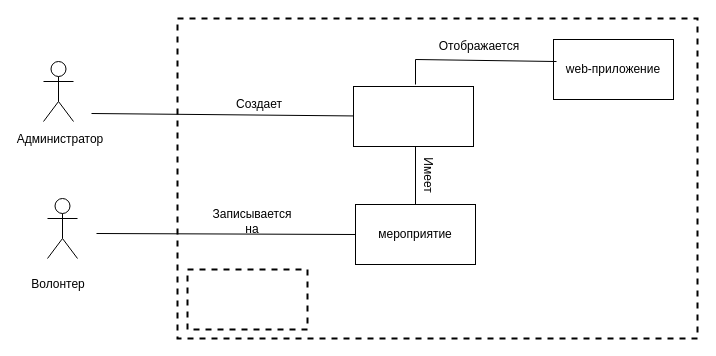
Some shapes in this 716 by 356 pixel diagram are drawn without their labels. The centre of each missing label's shape, as x and y in pixels:
история участия в мероприятиях: (x=247, y=299)
событие: (x=413, y=116)
